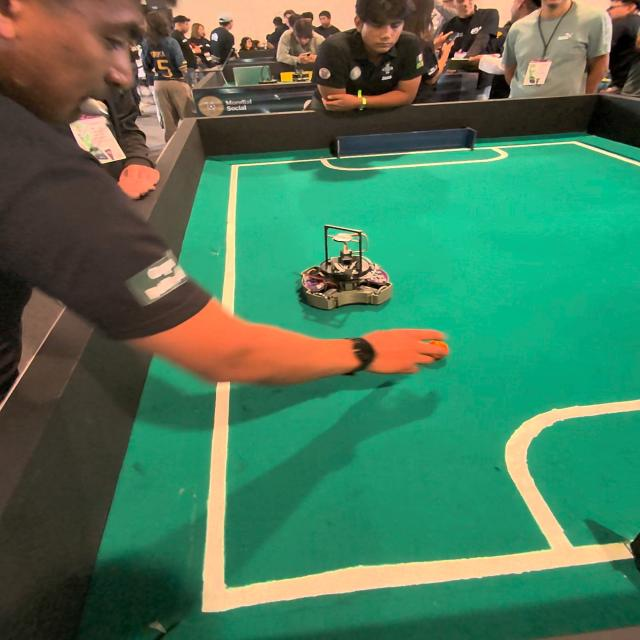Robot: (289, 220, 393, 314)
pelota: (422, 336, 461, 368)
